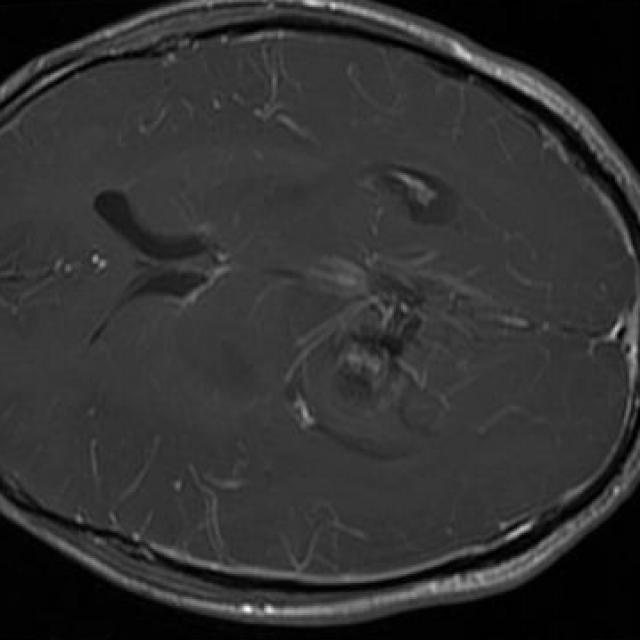glioma: (339, 260, 424, 398)
